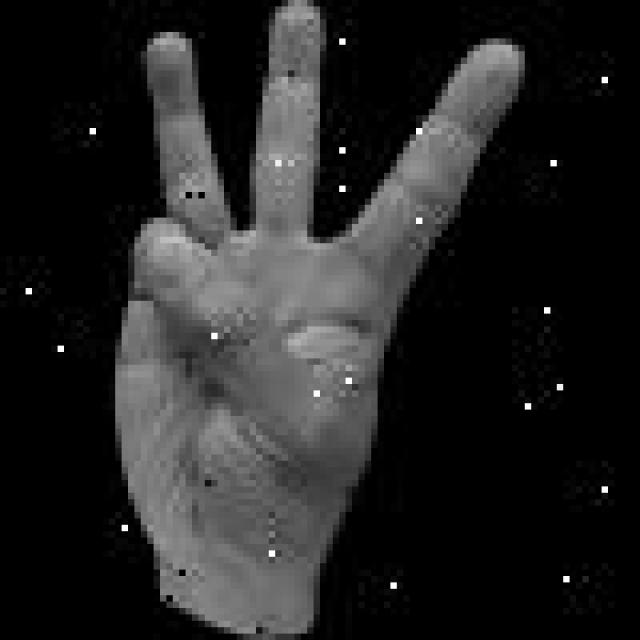W: (102, 0, 532, 602)
